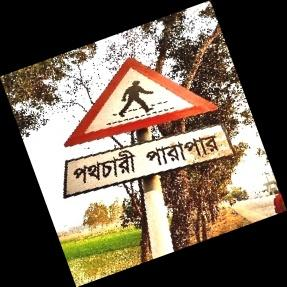Pedestrian-crossing: (61, 57, 231, 197)
